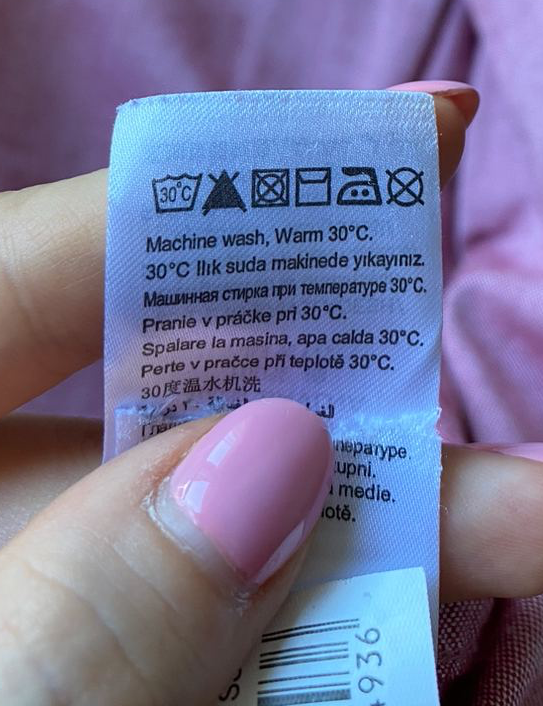do_not_bleach: (200, 166, 249, 214)
do_not_dry_clean: (383, 164, 429, 209)
do_not_tumble_drying: (249, 165, 291, 211)
ironing_at_med_temp: (334, 165, 384, 208)
line_dry: (293, 164, 336, 208)
wash_at_or_below_30: (147, 169, 204, 217)
